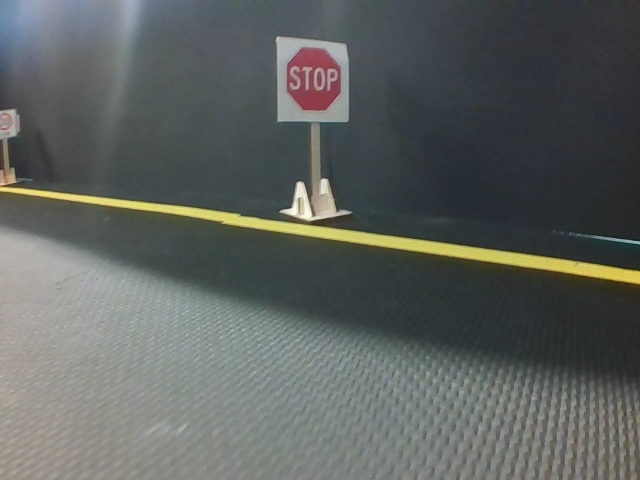30: (1, 110, 16, 140)
stop: (277, 38, 349, 121)
